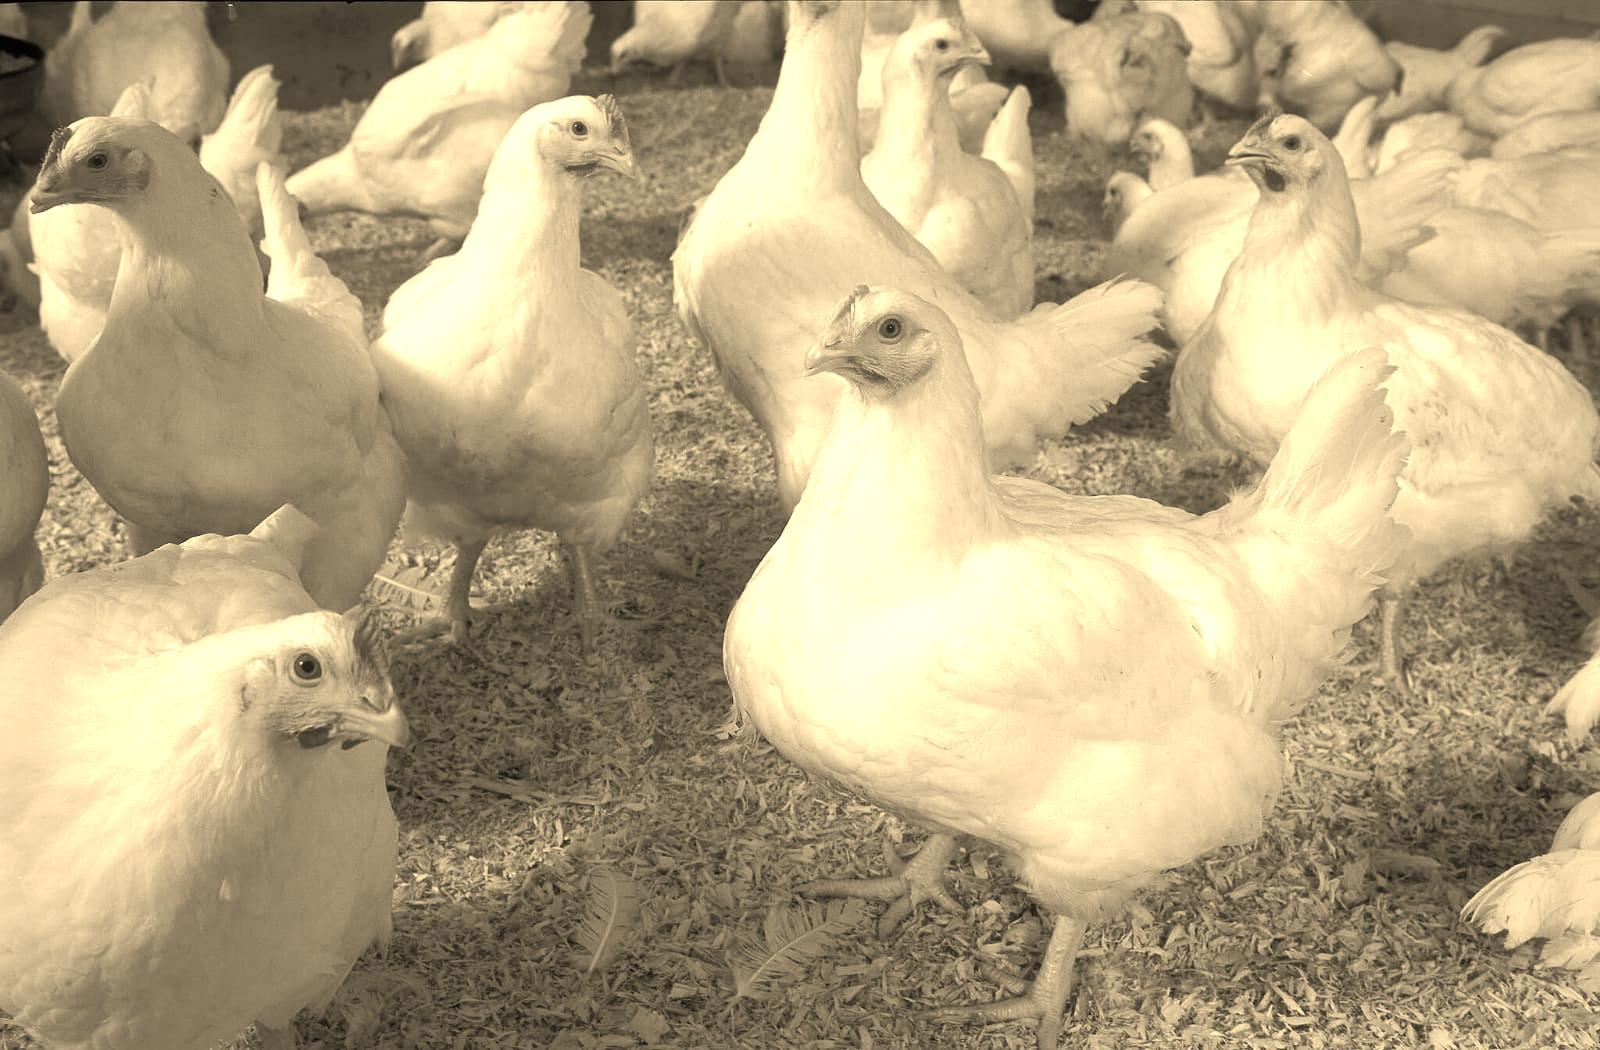Healthy: (726, 280, 1423, 1023), (8, 512, 447, 1048), (371, 73, 686, 653)
